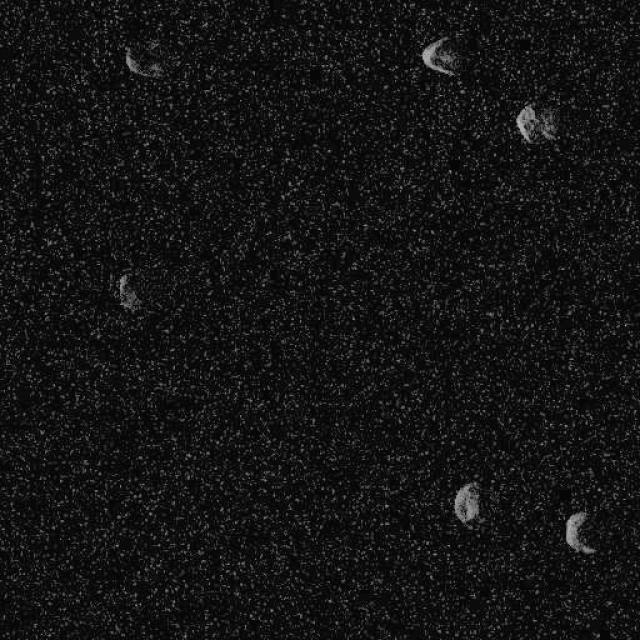D2: (515, 101, 559, 145), (420, 35, 460, 76), (124, 42, 165, 78), (564, 510, 596, 554), (452, 480, 480, 524), (114, 272, 141, 312)
